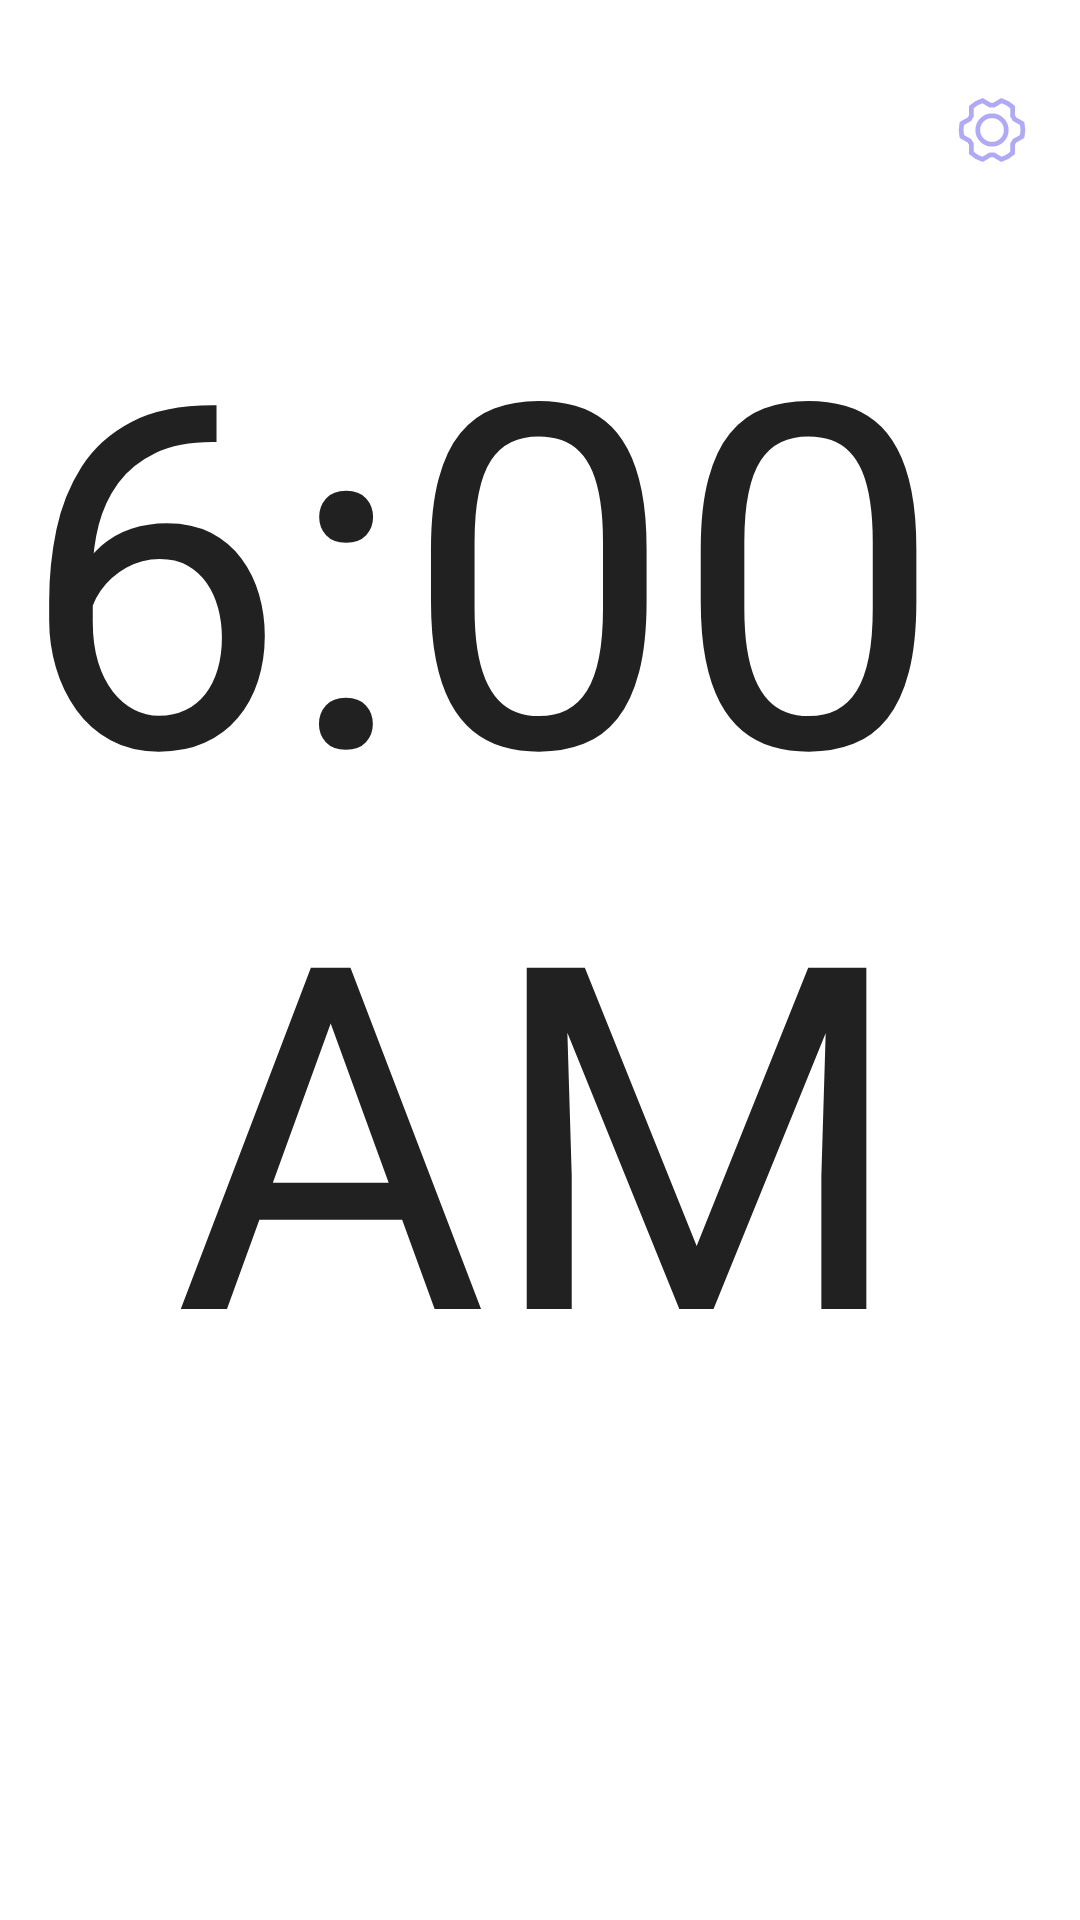

Screen size 1080px×1920px. Icon name, then its center in pixels as point (x, y):
settings: point (992, 130)
